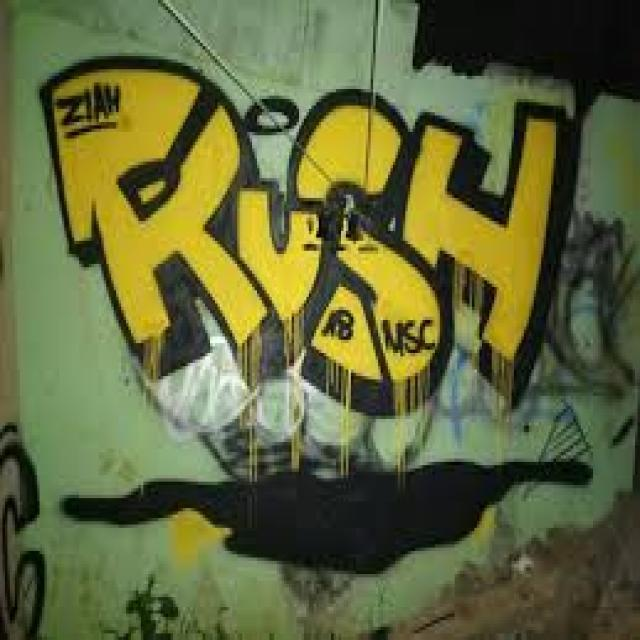-: (39, 58, 582, 413), (62, 460, 596, 580), (545, 212, 639, 398), (0, 419, 44, 640)
